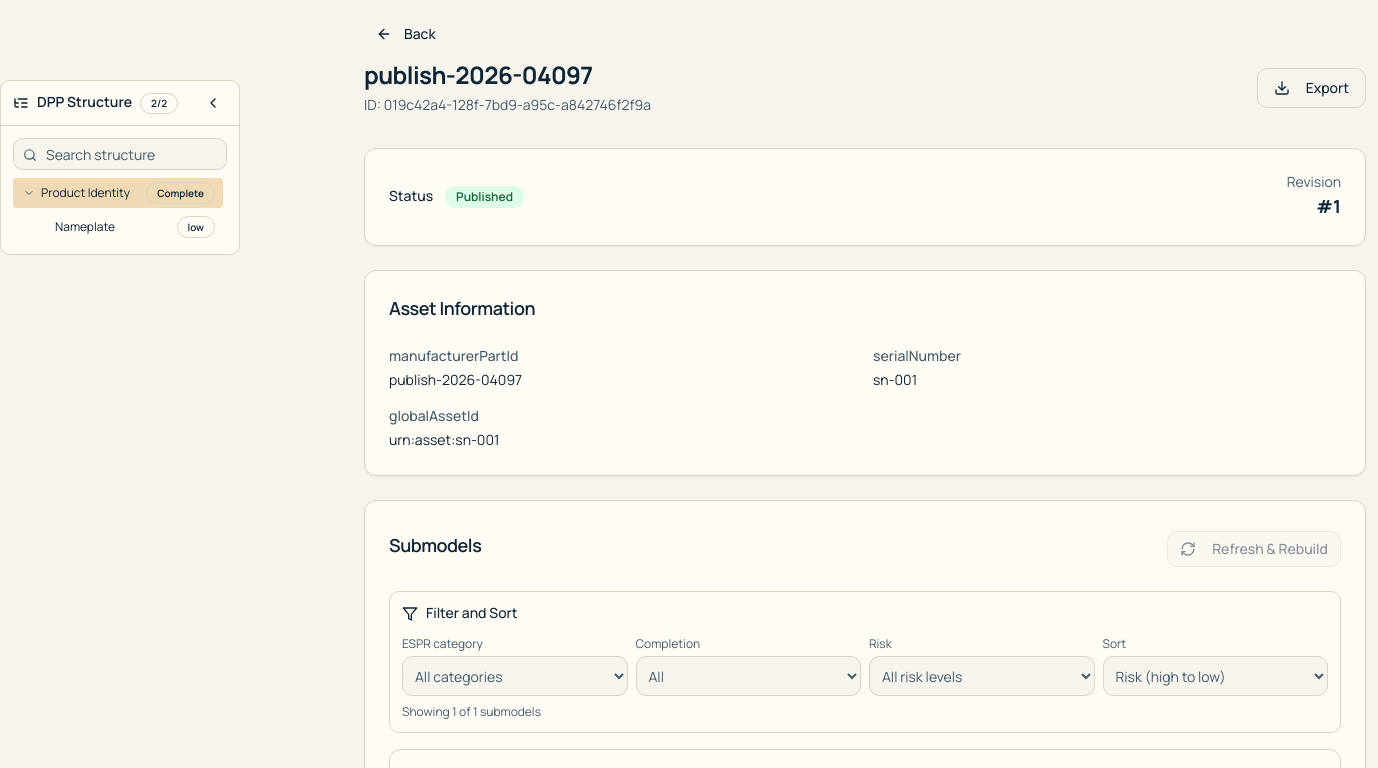
DPPEditorPage action gating › shows QR export only when DPP is published and readable
Click the button "Export".
click(1311, 88)  # box [1257,68,1366,108]
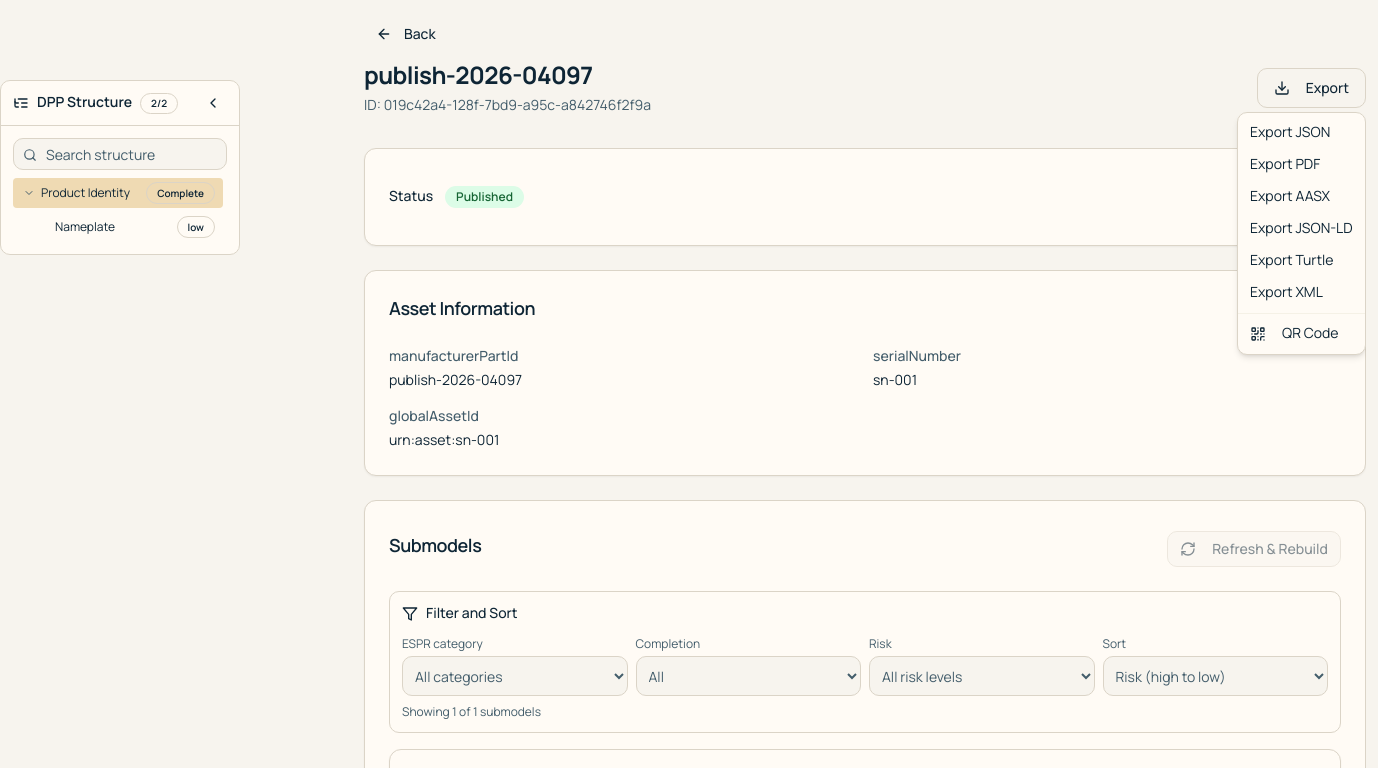
Check: the menu item "QR Code" is shown, box [1250,324,1338,343]
